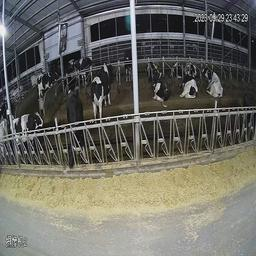cow: (61, 87, 84, 191), (11, 106, 44, 168), (91, 53, 115, 137), (148, 67, 177, 112), (202, 63, 228, 105), (30, 68, 59, 100), (241, 83, 255, 145), (67, 53, 89, 85), (180, 73, 200, 104), (122, 42, 134, 87), (185, 57, 199, 79), (170, 55, 183, 76)
